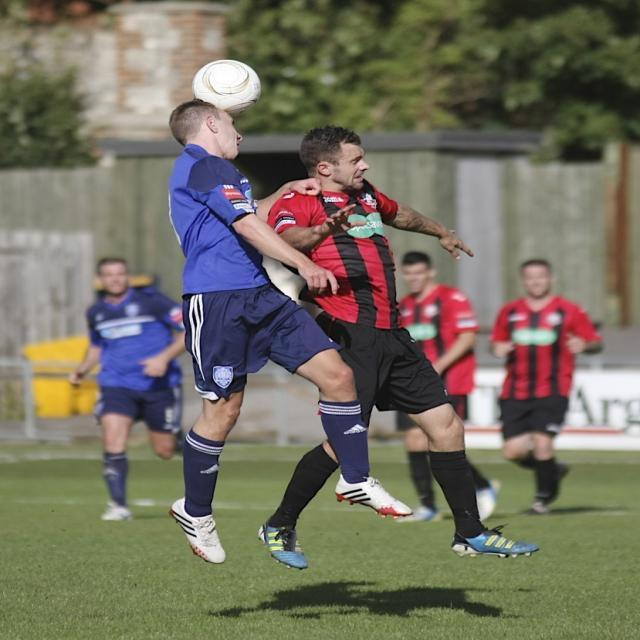football: (181, 38, 283, 117)
